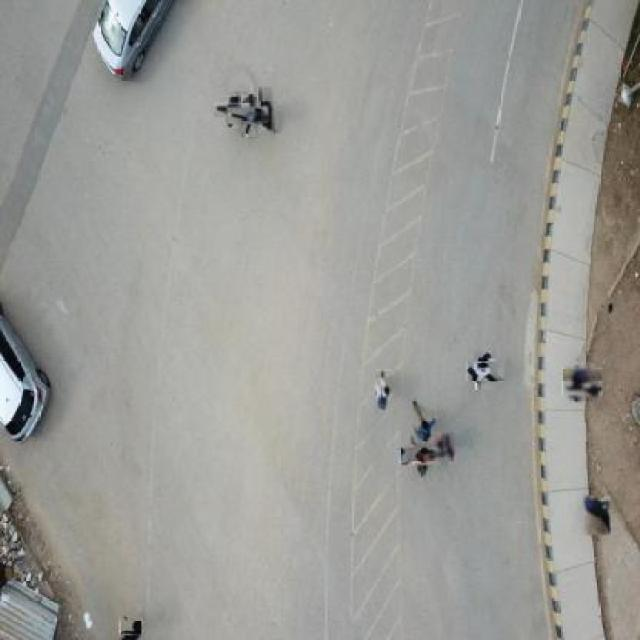Person: (565, 365, 600, 400), (412, 398, 437, 442), (584, 496, 611, 536), (404, 441, 436, 472), (232, 100, 263, 132), (471, 356, 502, 387), (375, 368, 394, 410), (259, 88, 276, 134), (219, 97, 246, 125), (434, 432, 454, 462), (121, 617, 141, 638)
